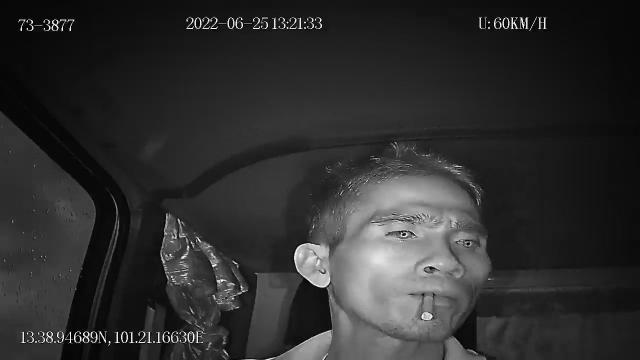SafeDriving: (378, 221, 424, 245), (446, 230, 486, 252)
Smoking: (421, 290, 435, 322)
